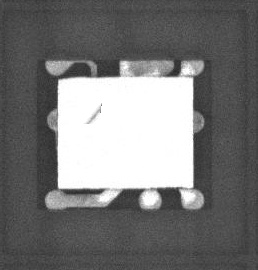DIE_INK: (79, 108, 97, 129)
